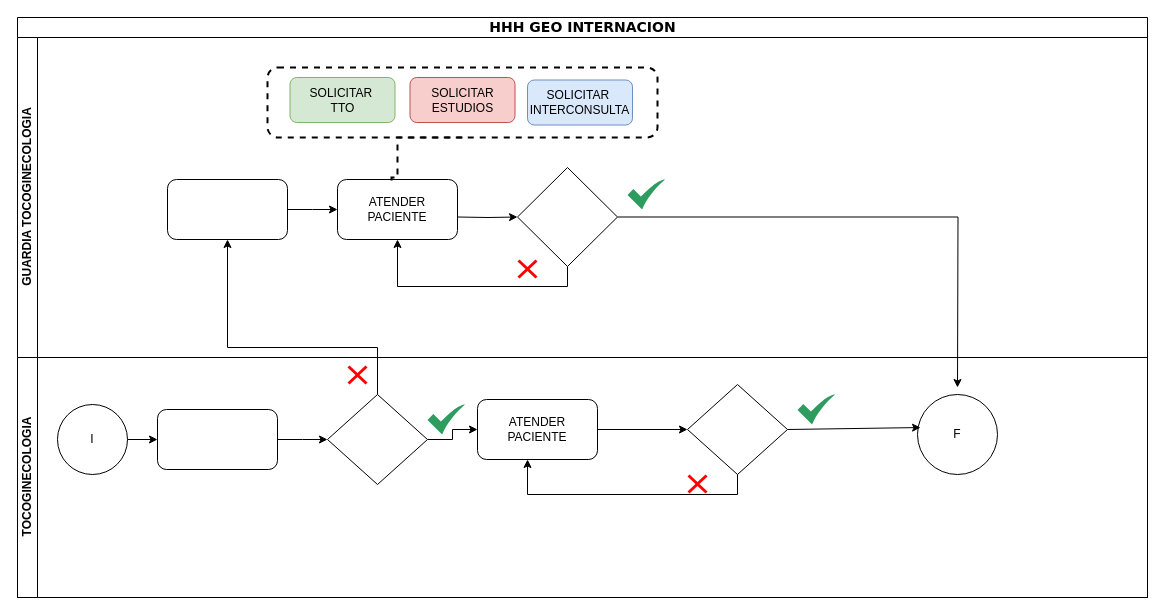
This 1165x615 diagram has some shape labels left out. Each missing label, with the centre of its shape:
"ATENDER DERIVACION" belongs at point (227, 209).
"FINALIZA ATENCIÓN" belongs at point (567, 216).
"FINALIZA CONSULTA" belongs at point (737, 429).
"RESUELVE TOCO" belongs at point (377, 439).
"RONDA SALA INTERNACIÓN" belongs at point (217, 439).
